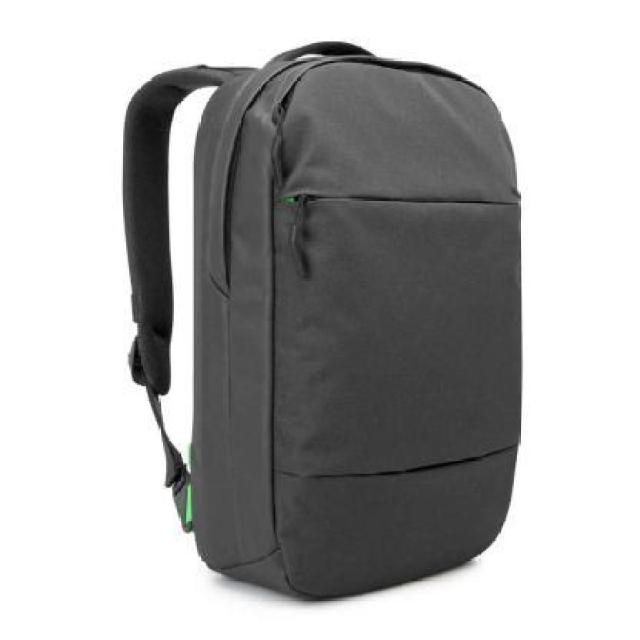backpack: (118, 32, 530, 606)
